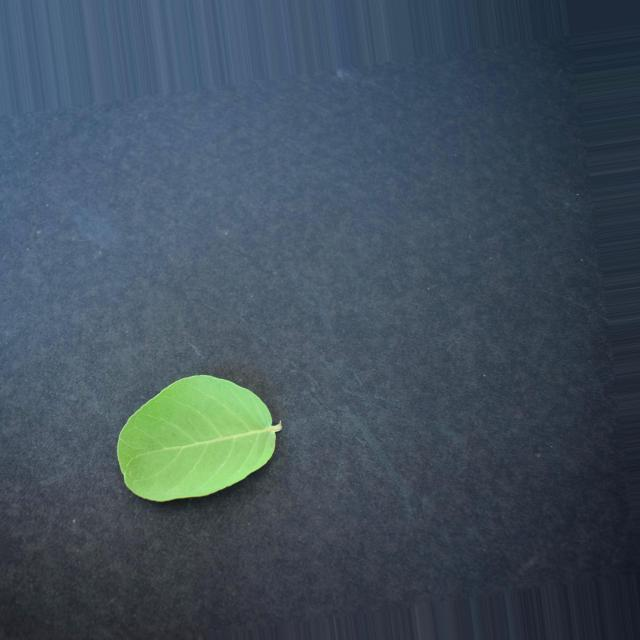Healthy: (118, 375, 281, 502)
